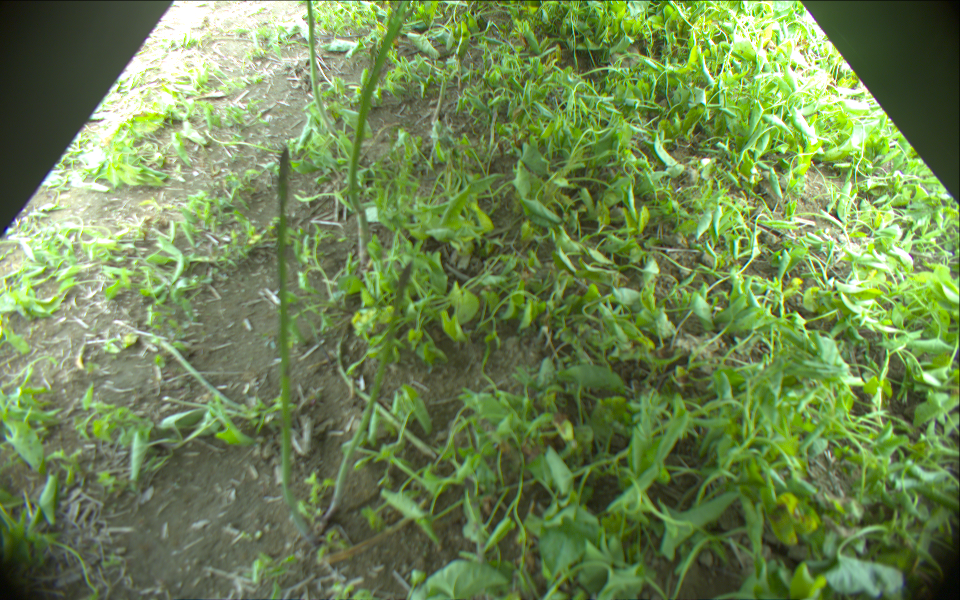aspa: (315, 259, 418, 530), (346, 1, 408, 212), (275, 145, 294, 497), (304, 1, 343, 139), (353, 211, 371, 270)
